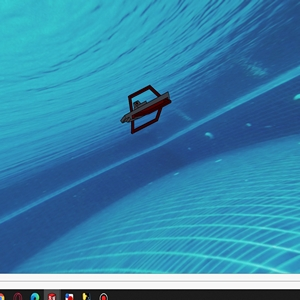submarine: (124, 92, 177, 129)
